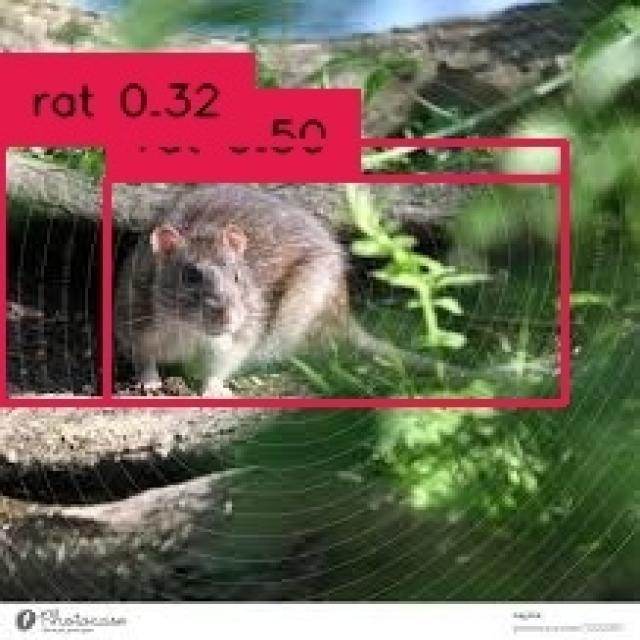rat: (0, 138, 561, 399), (102, 175, 560, 399)
